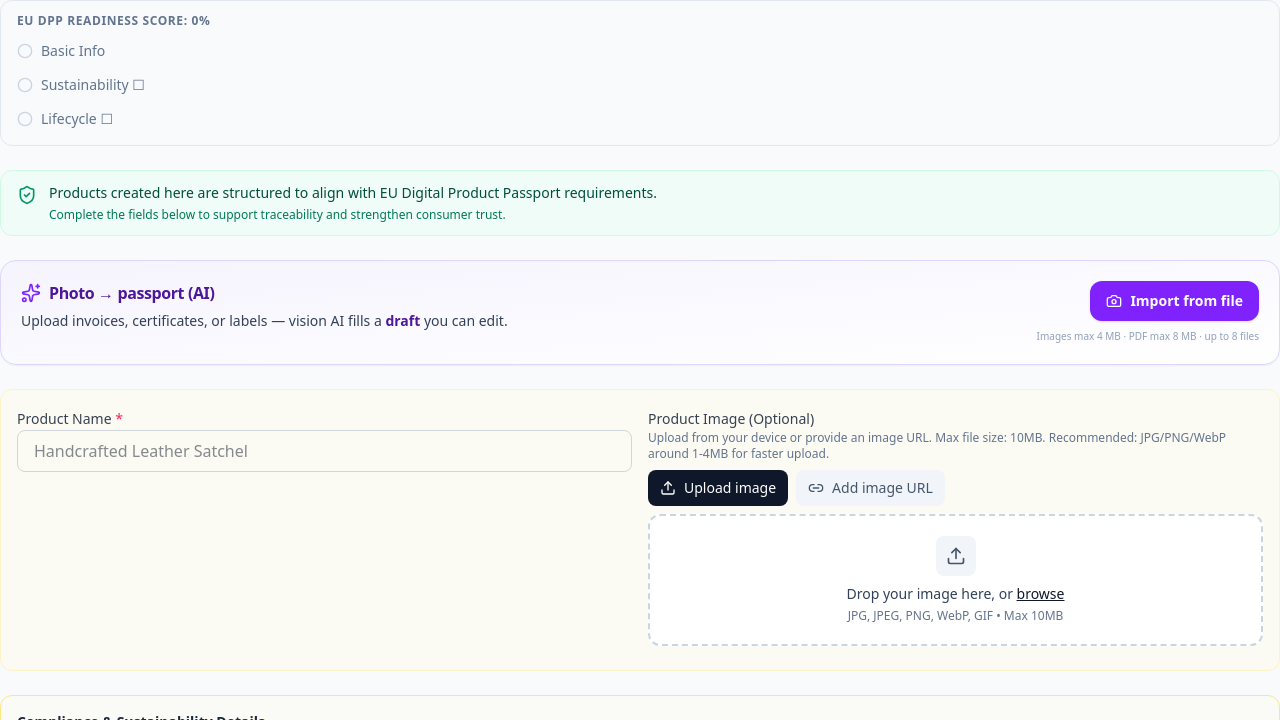
Test case: ProductForm › Save Draft button stores draft without submitting product
Type "Draft Product" into the field with placeholder "Handcrafted Leather Satchel" at point(324, 451), box [17,430,632,472]
(page scrolled)
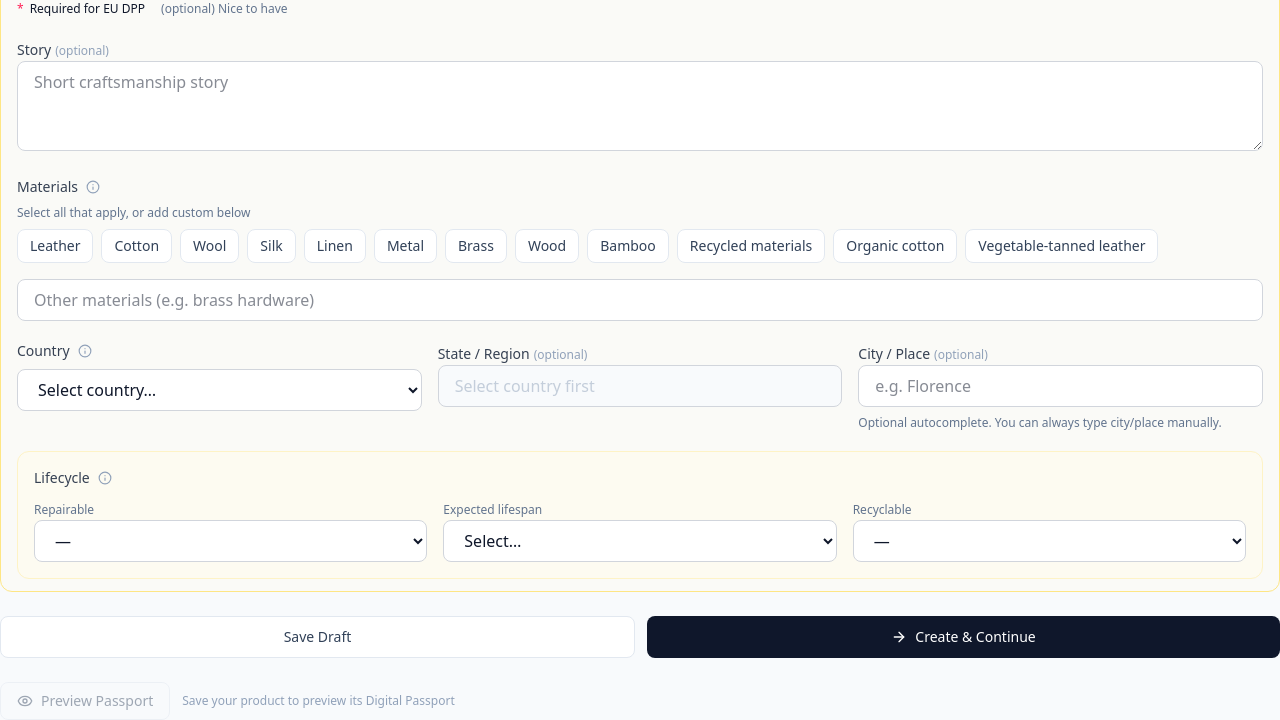
Click the button "Save Draft" at point(318, 637), box [0,616,635,658]
(page scrolled)
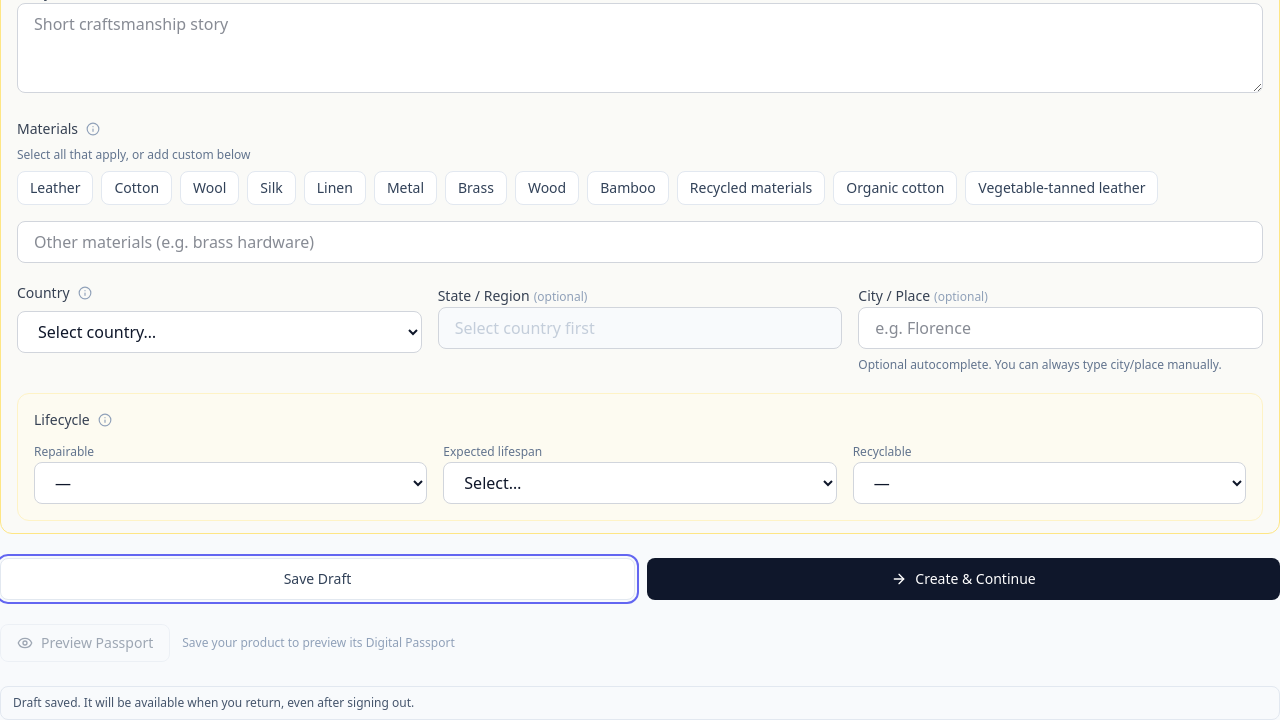
expect the text "Draft saved" is shown: met, box [13,694,414,711]
